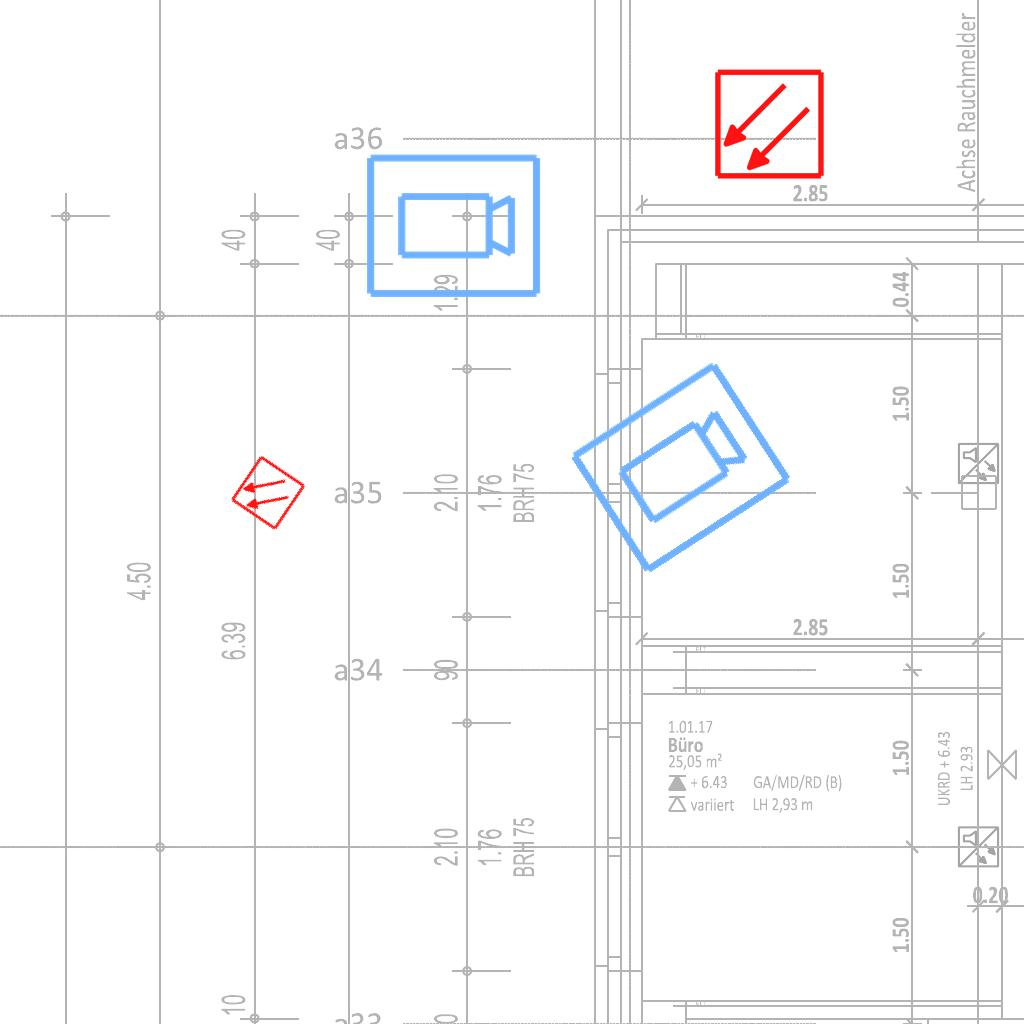KFO_Kamera_mit_Festobjektiv: (562, 354, 800, 584), (362, 150, 544, 304)
RMO_Rauchmelder_optischer: (713, 68, 826, 181), (229, 454, 307, 532)
